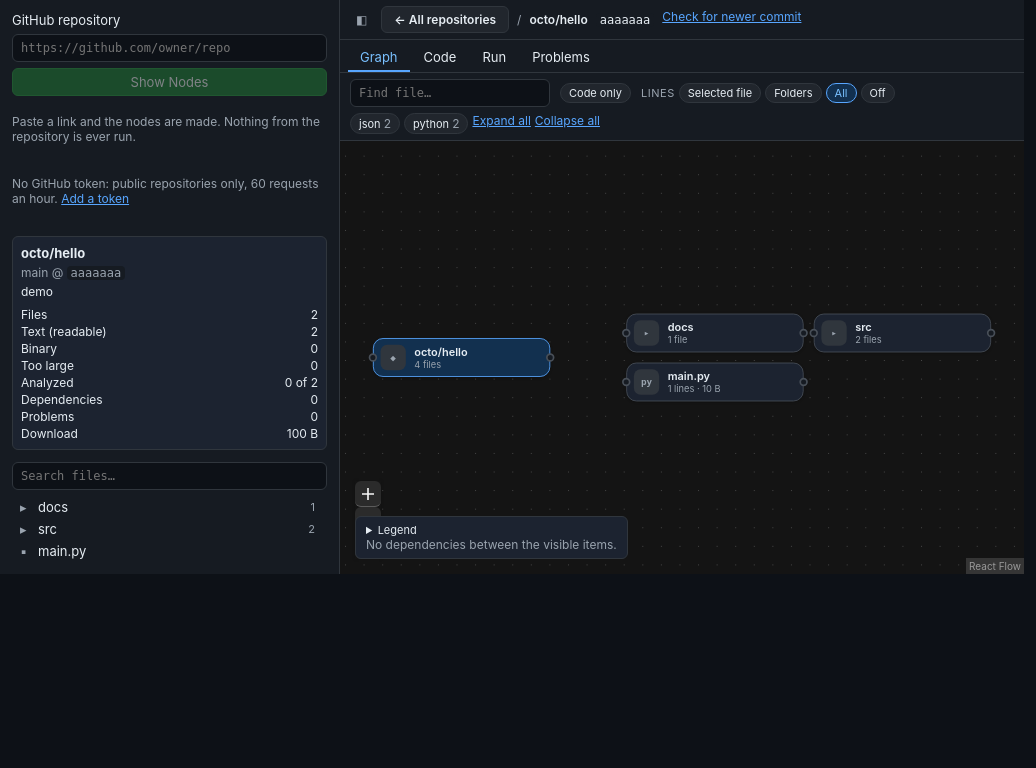
Scenario: Repository Explorer › graph › expands a folder on demand
The width and height of the screenshot is (1036, 768).
Click the button with aria-label "Expand src": click(918, 327) top-left (855, 320), bottom-right (980, 334)
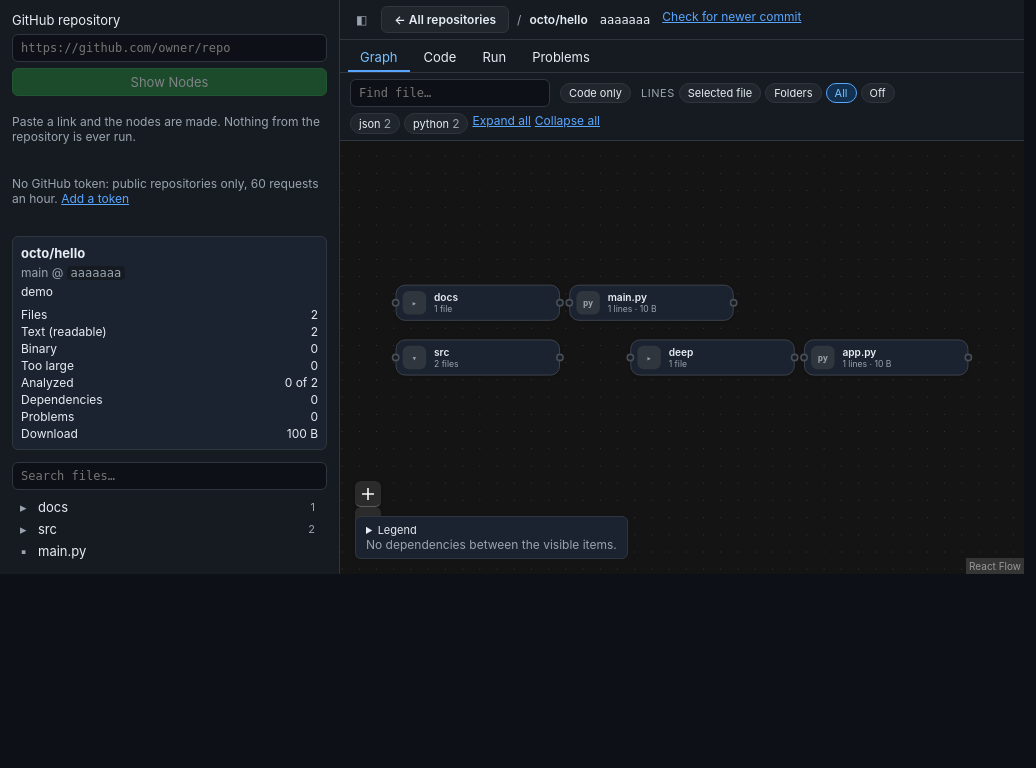
Expected: the button with aria-label "Collapse src" is shown, top-left (434, 346), bottom-right (550, 358)
Now the button "app.py" is shown, box top-left (842, 346), bottom-right (958, 358)
